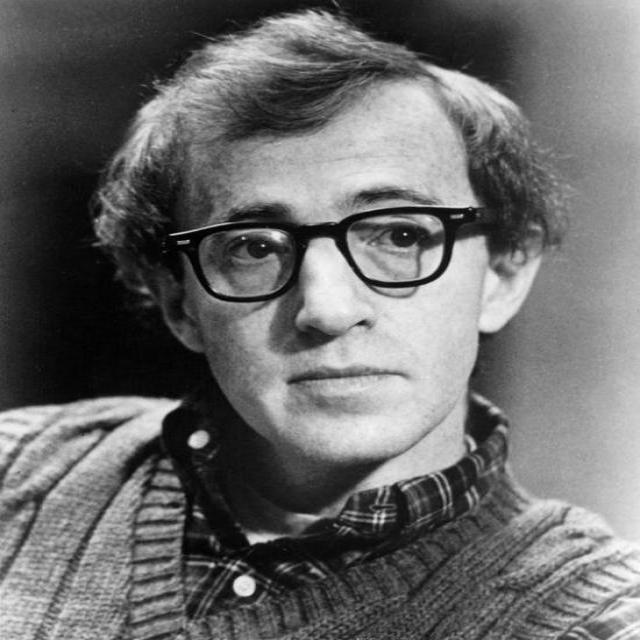glasses: (160, 208, 496, 302)
